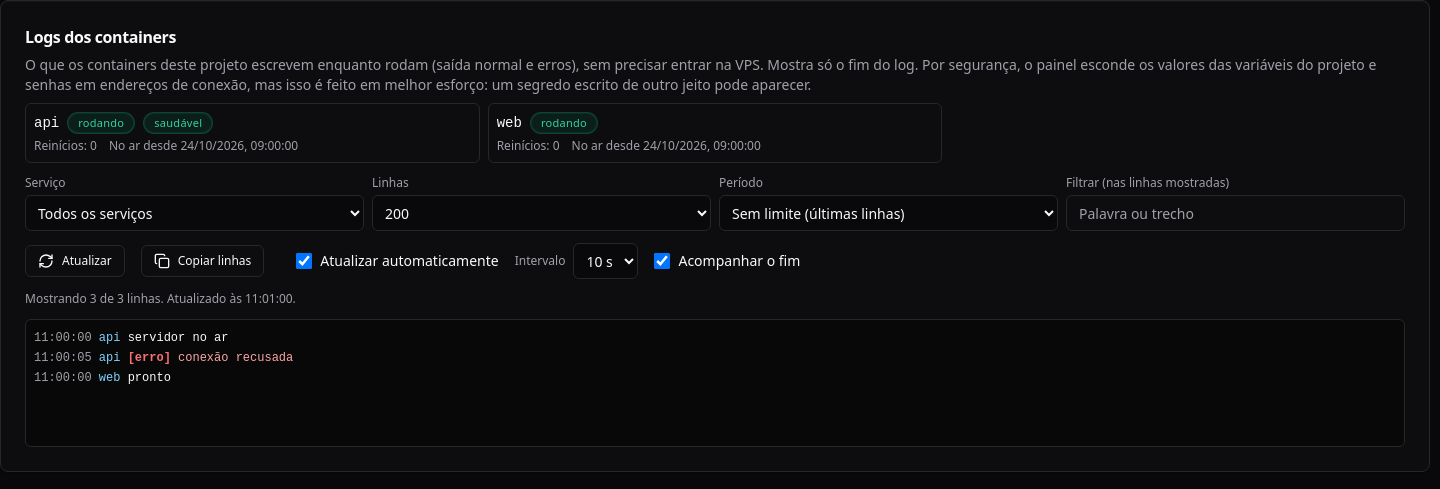
ProjectLogsSection: filtro local e copiar › filtra sem consultar o servidor e conta as linhas
Expected: the text "servidor no ar" is shown, [128,331,228,345]
Type "RECUSADA" into the field labelled "Filtrar (nas linhas mostradas)" at (1236, 213), box [1066,195,1405,231]
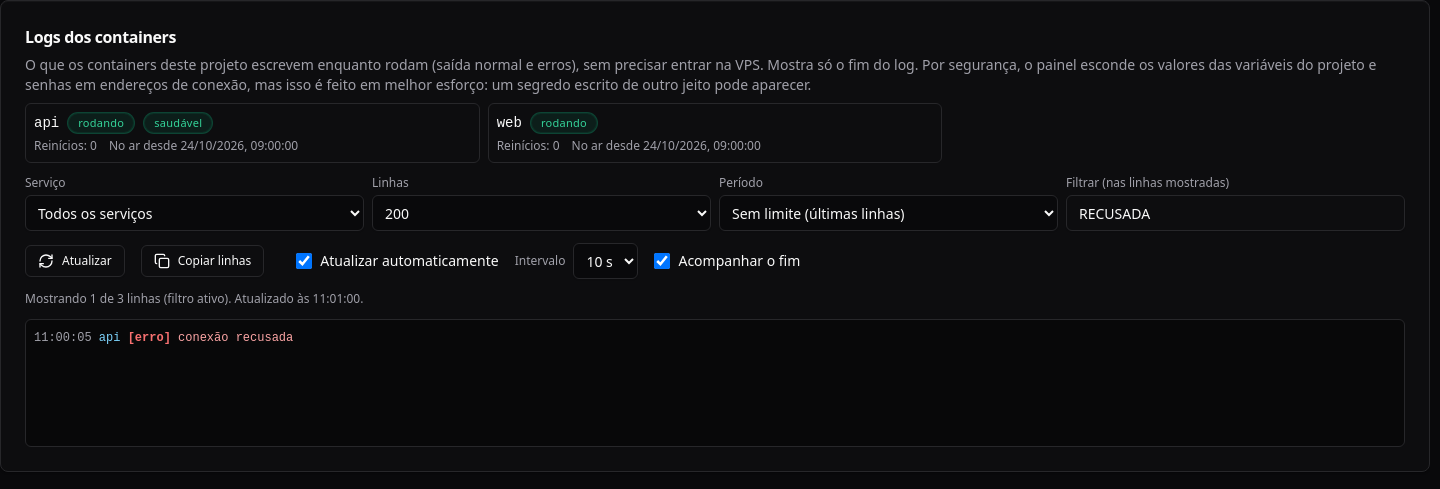
Now the text "conexão recusada" is shown, box [178,331,293,345]
Now the text "servidor no ar" is gone
Now the message shows "Mostrando 1 de 3 linhas (filtro ativo)", box [25,290,363,307]
